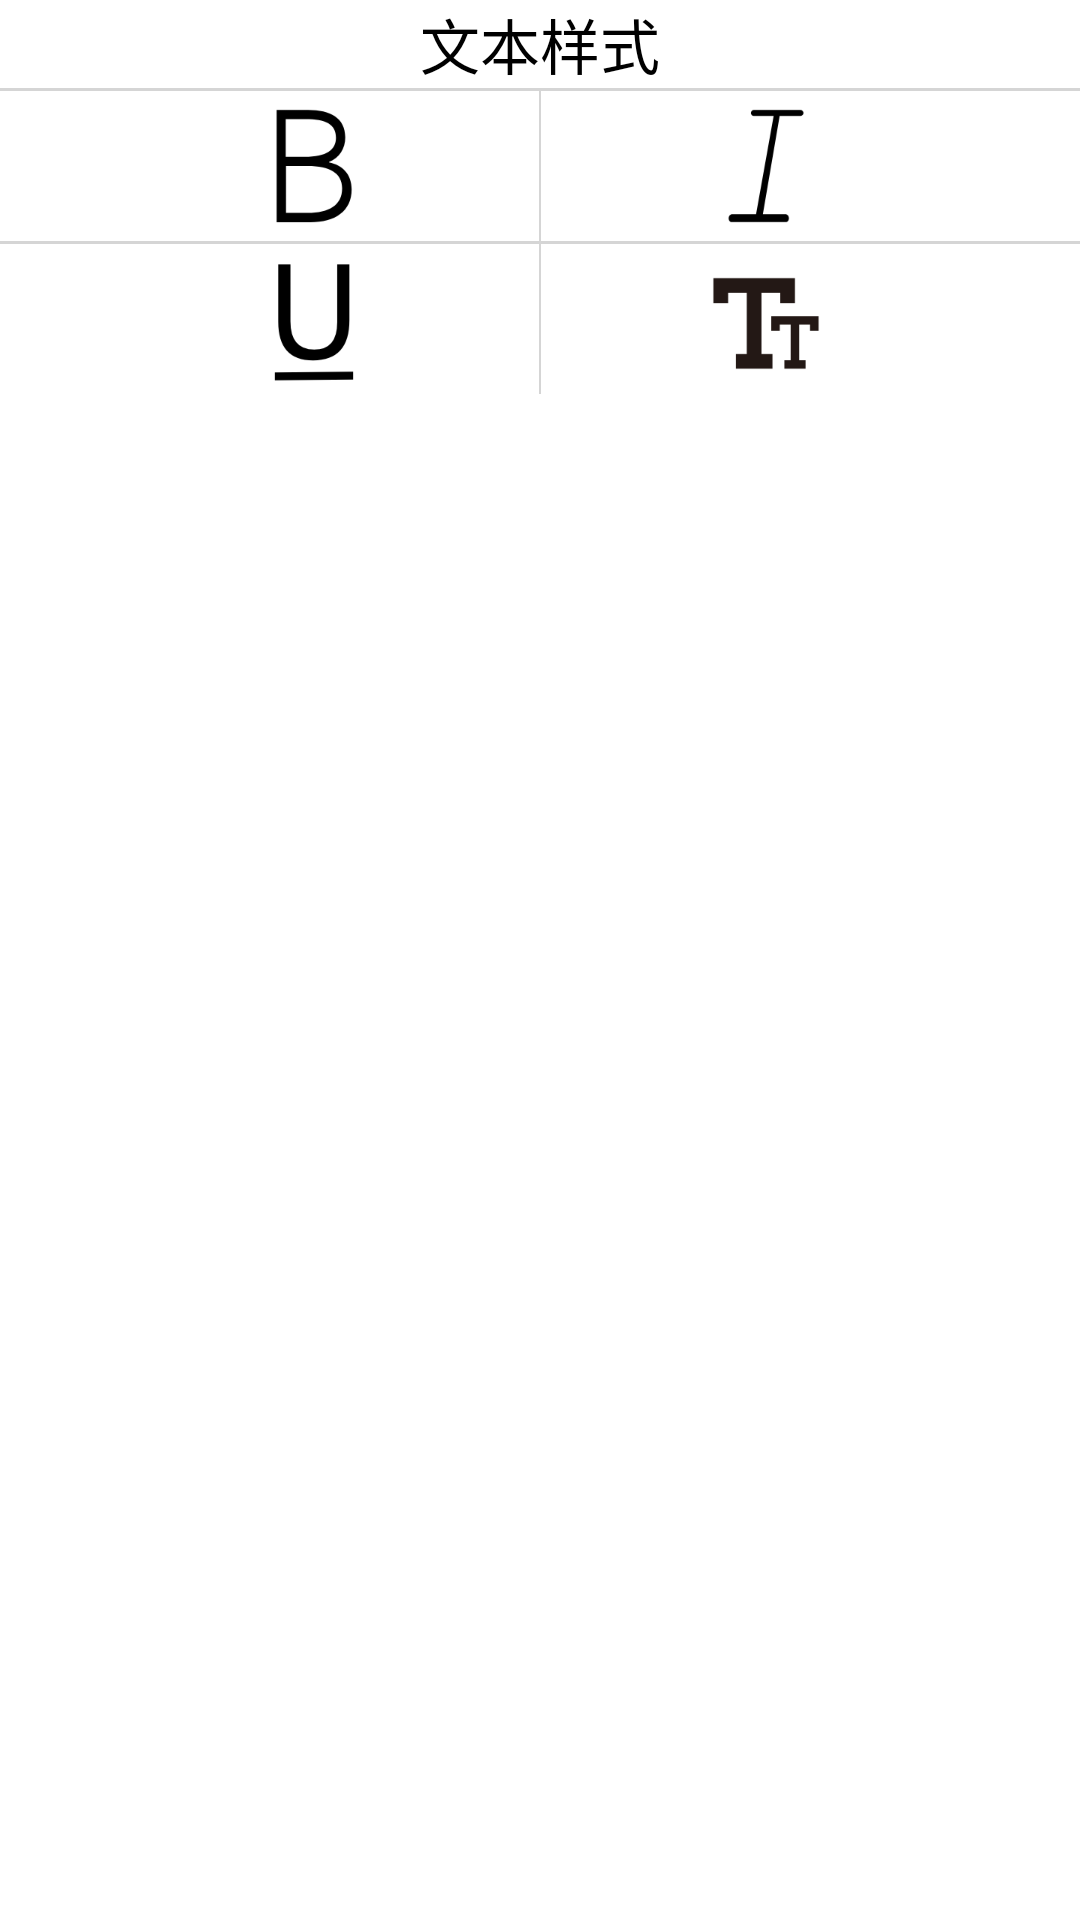

Icons on this 1080*1920 Android screen, each with its box as (x1, y1, x2, y2):
font: (276, 109, 352, 223)
font italic: (728, 109, 804, 223)
font size: (713, 278, 819, 369)
font underline: (274, 264, 354, 381)
